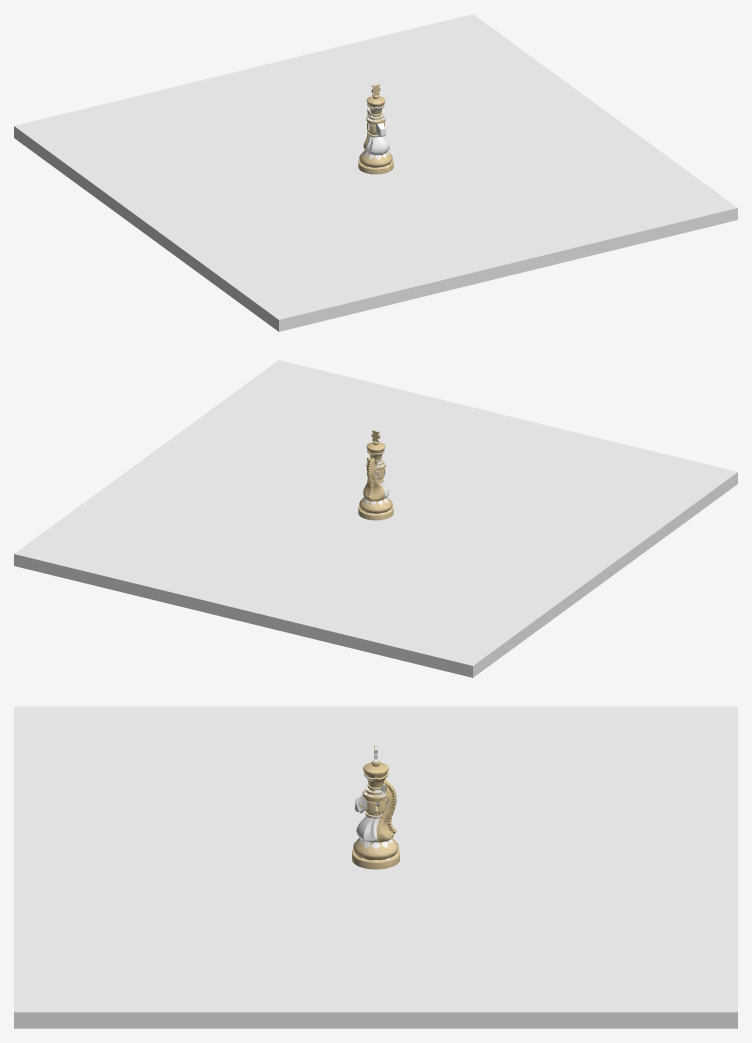
The picture shows the model from 3 angles, top to bottom: view 1: azimuth 30°, elevation 25°; view 2: azimuth 150°, elevation 25°; view 3: azimuth 270°, elevation 25°; orthographic projection. The views are drawn at different scales.
Visible parts, largest first — view 1: Chesstable_Low, Chessboard_Low, Chesstrim_Low, King_High, Knight_Low; view 2: Chesstable_Low, Chessboard_Low, Chesstrim_Low, King_High, Knight_High; view 3: Chesstable_Low, Chessboard_Low, Chesstrim_Low, King_High, Knight_High, Knight_Low.
Part boxes in pixels (bbox=[...]): Chesstable_Low: bbox=[14, 14, 737, 331]; Chessboard_Low: bbox=[135, 65, 616, 268]; Chesstrim_Low: bbox=[131, 63, 620, 270]; King_High: bbox=[358, 84, 393, 174]; Knight_Low: bbox=[365, 108, 389, 155]; Chesstable_Low: bbox=[14, 360, 737, 677]; Chessboard_Low: bbox=[135, 411, 616, 614]; Chesstrim_Low: bbox=[131, 409, 620, 616]; King_High: bbox=[358, 430, 393, 520]; Knight_High: bbox=[363, 457, 385, 501]; Chesstable_Low: bbox=[14, 706, 737, 1028]; Chessboard_Low: bbox=[134, 757, 617, 961]; Chesstrim_Low: bbox=[131, 755, 620, 962]; King_High: bbox=[352, 745, 399, 869]; Knight_High: bbox=[358, 778, 396, 842]; Knight_Low: bbox=[354, 779, 389, 842].
Bounding box in the file's own units: 60 × 11.75 × 60.
13 materials, 4 textured.
